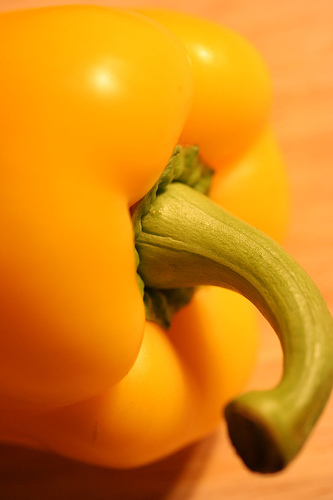capsicum: (0, 1, 331, 475)
